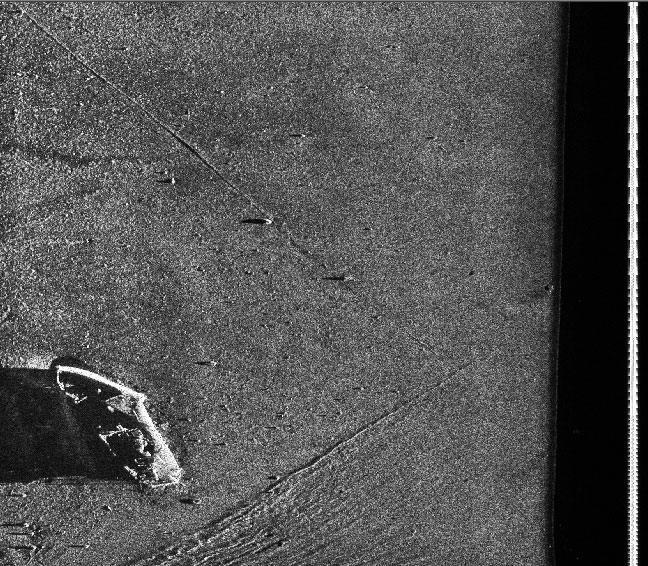ship: (53, 362, 186, 491)
